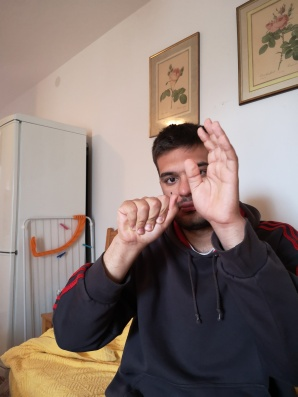A: (114, 192, 182, 246)
